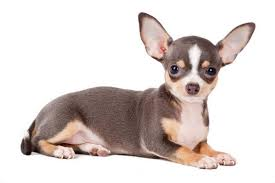chihuahua: (23, 9, 259, 171)
